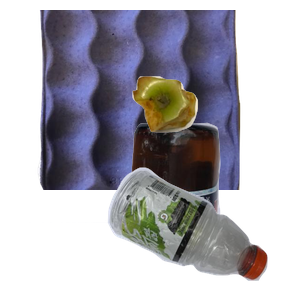glass: (29, 120, 242, 300)
paper: (35, 10, 268, 190)
plastic: (105, 165, 300, 300)
trash: (130, 74, 300, 199)
